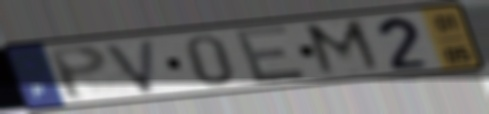0: (181, 33, 240, 88)
2: (371, 13, 438, 75)
E: (230, 23, 310, 87)
M: (300, 17, 388, 79)
P: (44, 43, 111, 103)
V: (100, 36, 159, 96)
